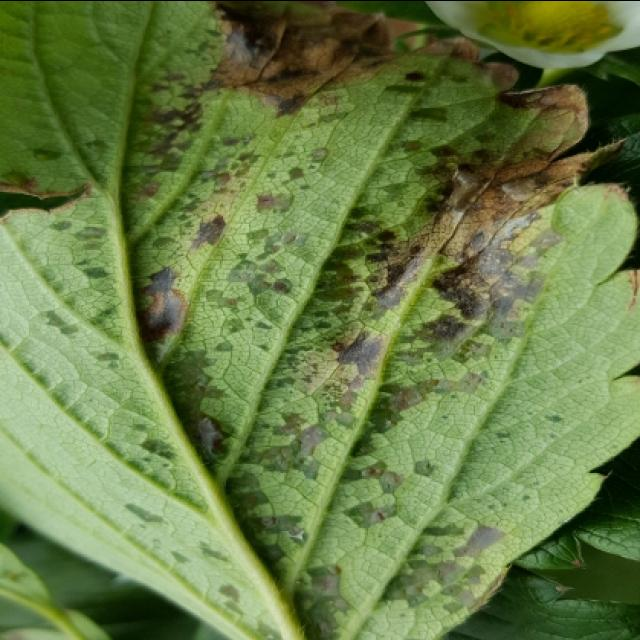Angular Leafspot: (0, 2, 638, 640)
